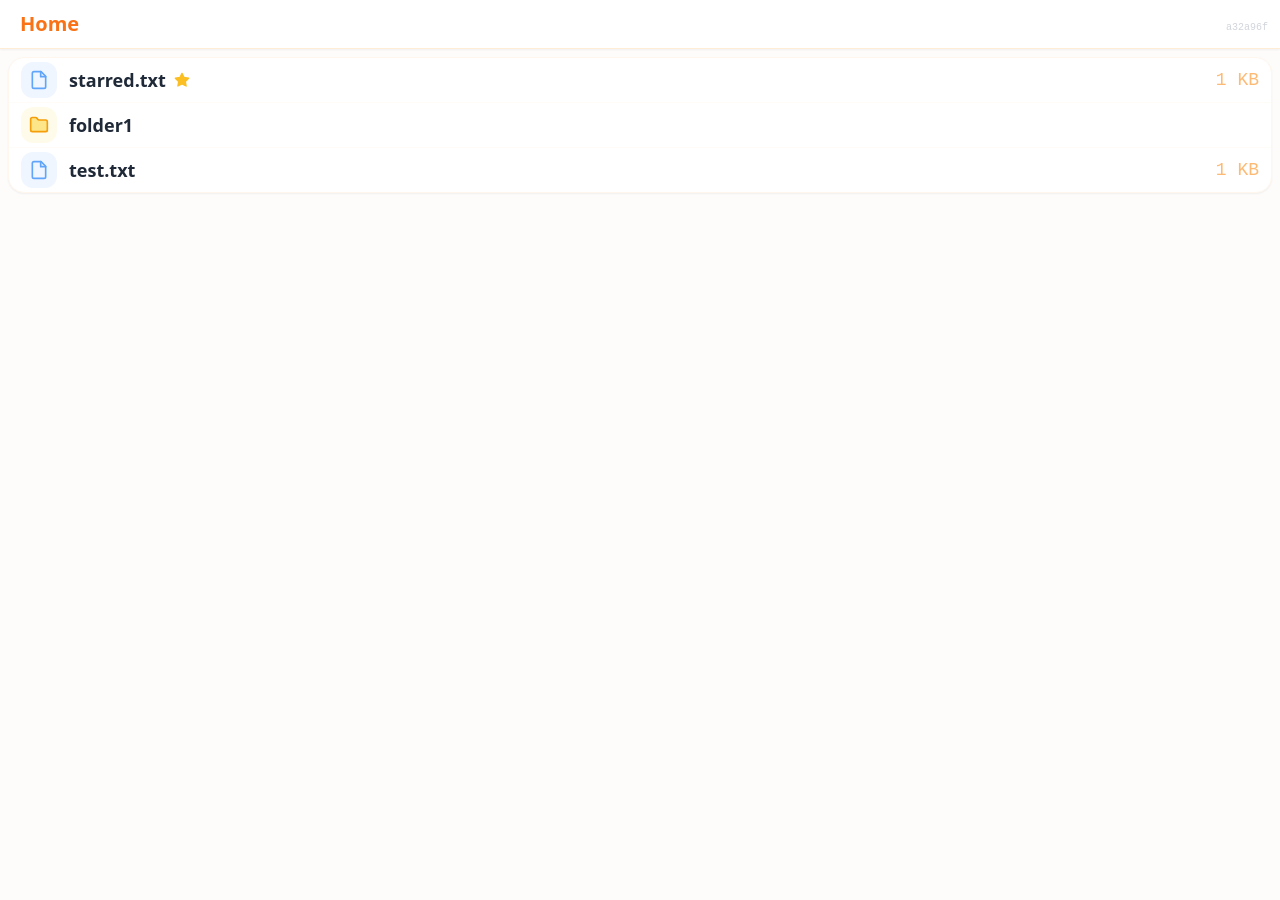
clicking Star updates local storage and refreshes list
Right-click the text "test.txt" at [640, 170], box [9,147,1271,192]
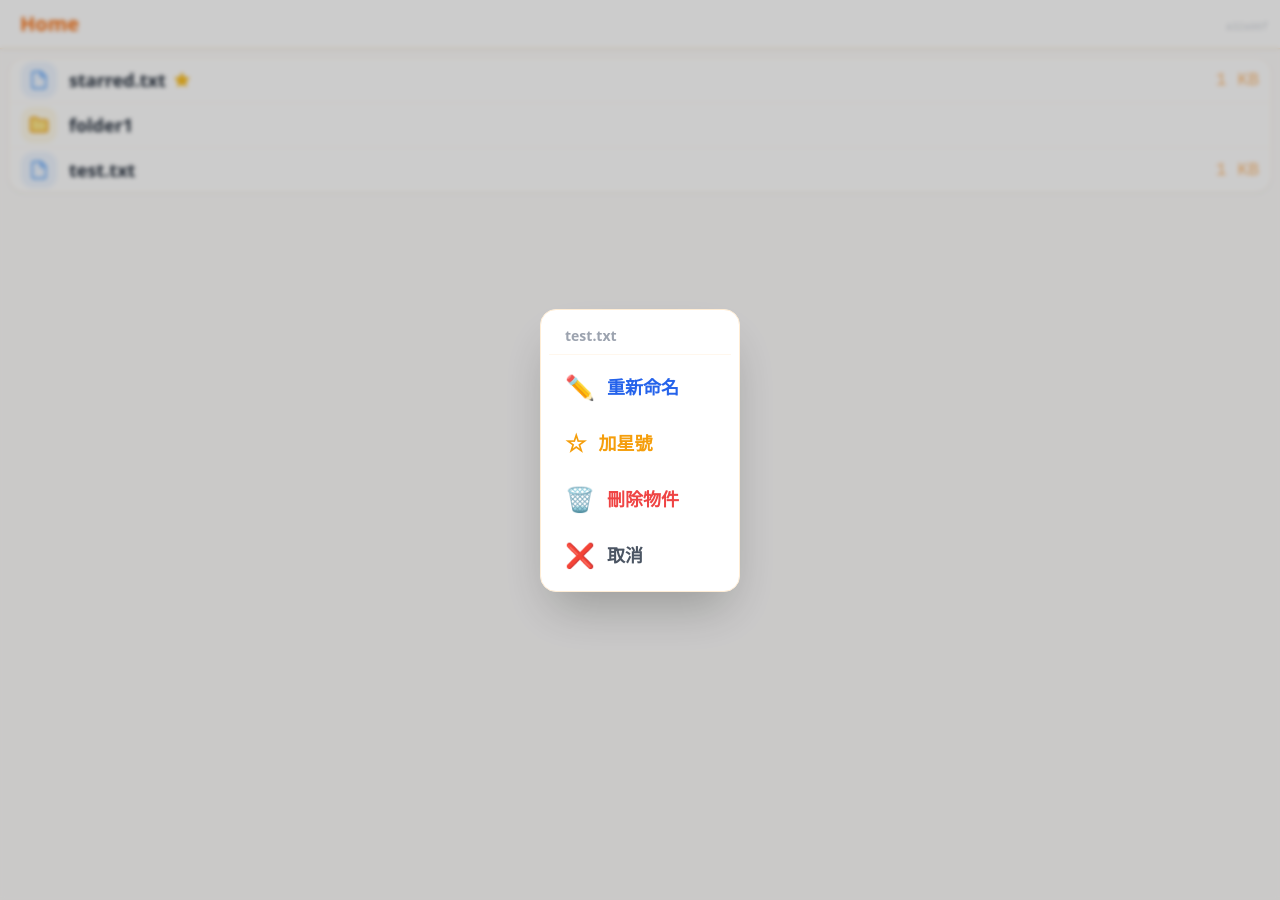
Click the button "☆ 加星號". click: [640, 442]
box: [549,414,731,470]
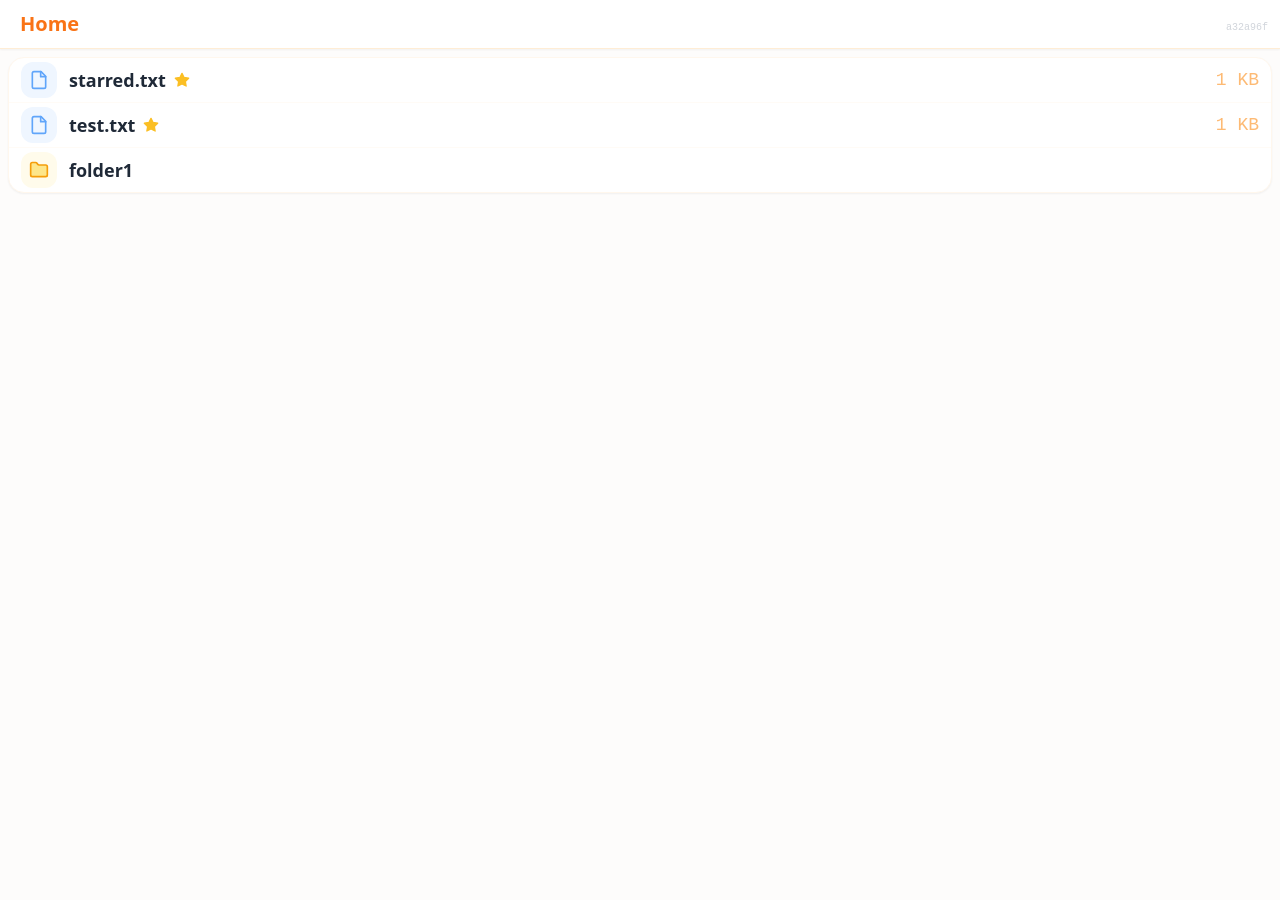
Check: the icon with test id "star-icon-test.txt" is shown, box [143,117,159,133]
